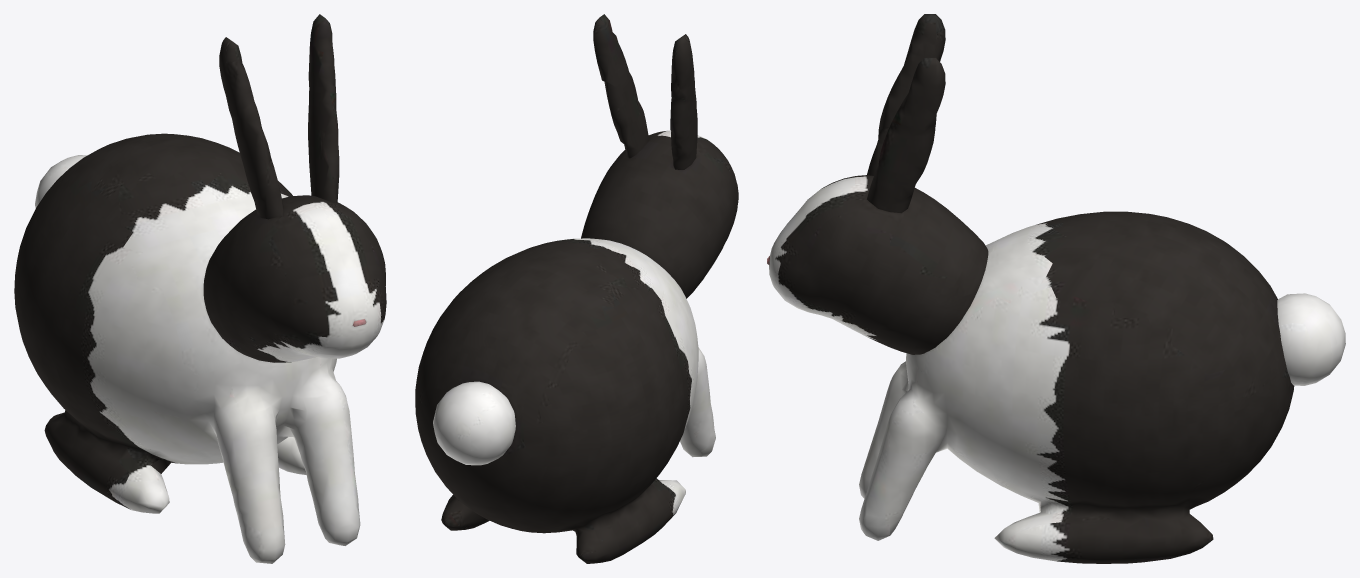
Rendered from animal_dutch_rabbit.glb.
3 renders of one model, left to right at view 1: azimuth 30°, elevation 25°; view 2: azimuth 150°, elevation 25°; view 3: azimuth 270°, elevation 25°, orthographic. The views are drawn at different scales.
Parts seen in each view (by area): view 1: animal_dutch_rabbit, head; view 2: animal_dutch_rabbit, head; view 3: animal_dutch_rabbit, head.
Boxes of the visible parts, <box> form: animal_dutch_rabbit: <box>14,133,360,563</box>; head: <box>203,14,386,362</box>; animal_dutch_rabbit: <box>415,238,715,563</box>; head: <box>581,14,738,298</box>; animal_dutch_rabbit: <box>859,211,1345,563</box>; head: <box>767,14,988,354</box>.
Size of the model in its own units: 0.1159 by 0.215 by 0.2307.
Materials: 1 (1 with a texture image).
